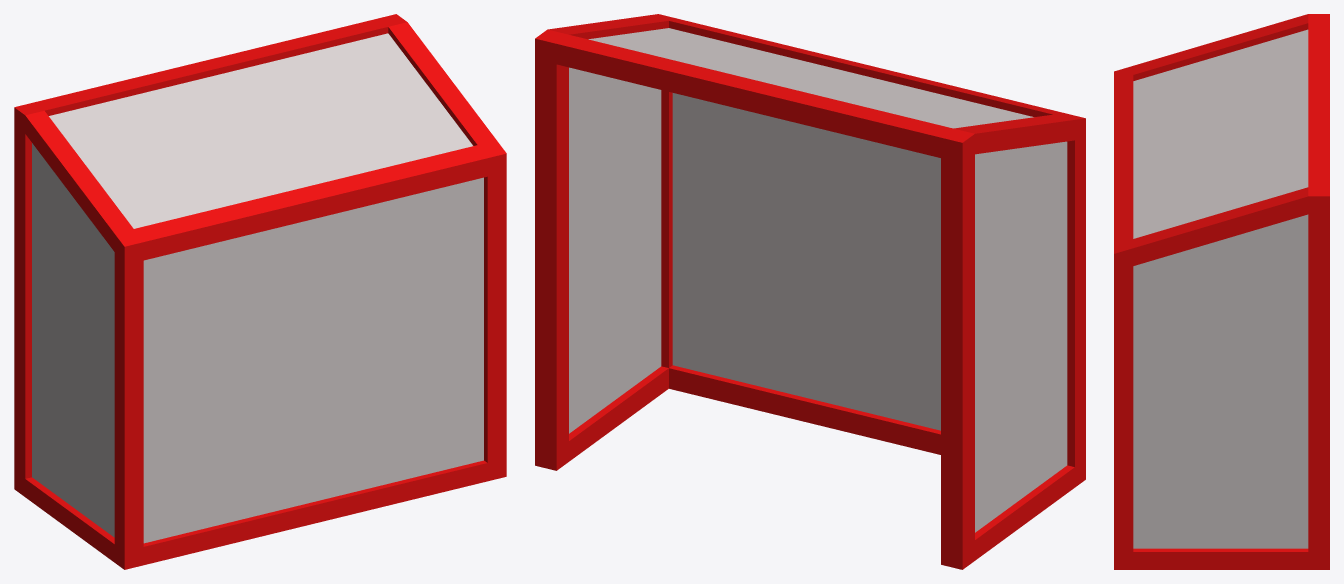
Rendered from But_Rouge_v1.FBX.
The picture shows the model from 3 angles, left to right: view 1: azimuth 30°, elevation 25°; view 2: azimuth 150°, elevation 25°; view 3: azimuth 270°, elevation 25°; orthographic projection. The views are drawn at different scales.
Visible parts, largest first — view 1: Cage002; view 2: Cage002; view 3: Cage002.
Part boxes in pixels (x1,y1,x2,y2): Cage002: [14, 14, 506, 569]; Cage002: [535, 14, 1085, 569]; Cage002: [1114, 14, 1329, 569].
Size of the model in its own units: 199 by 190 by 99.31.
